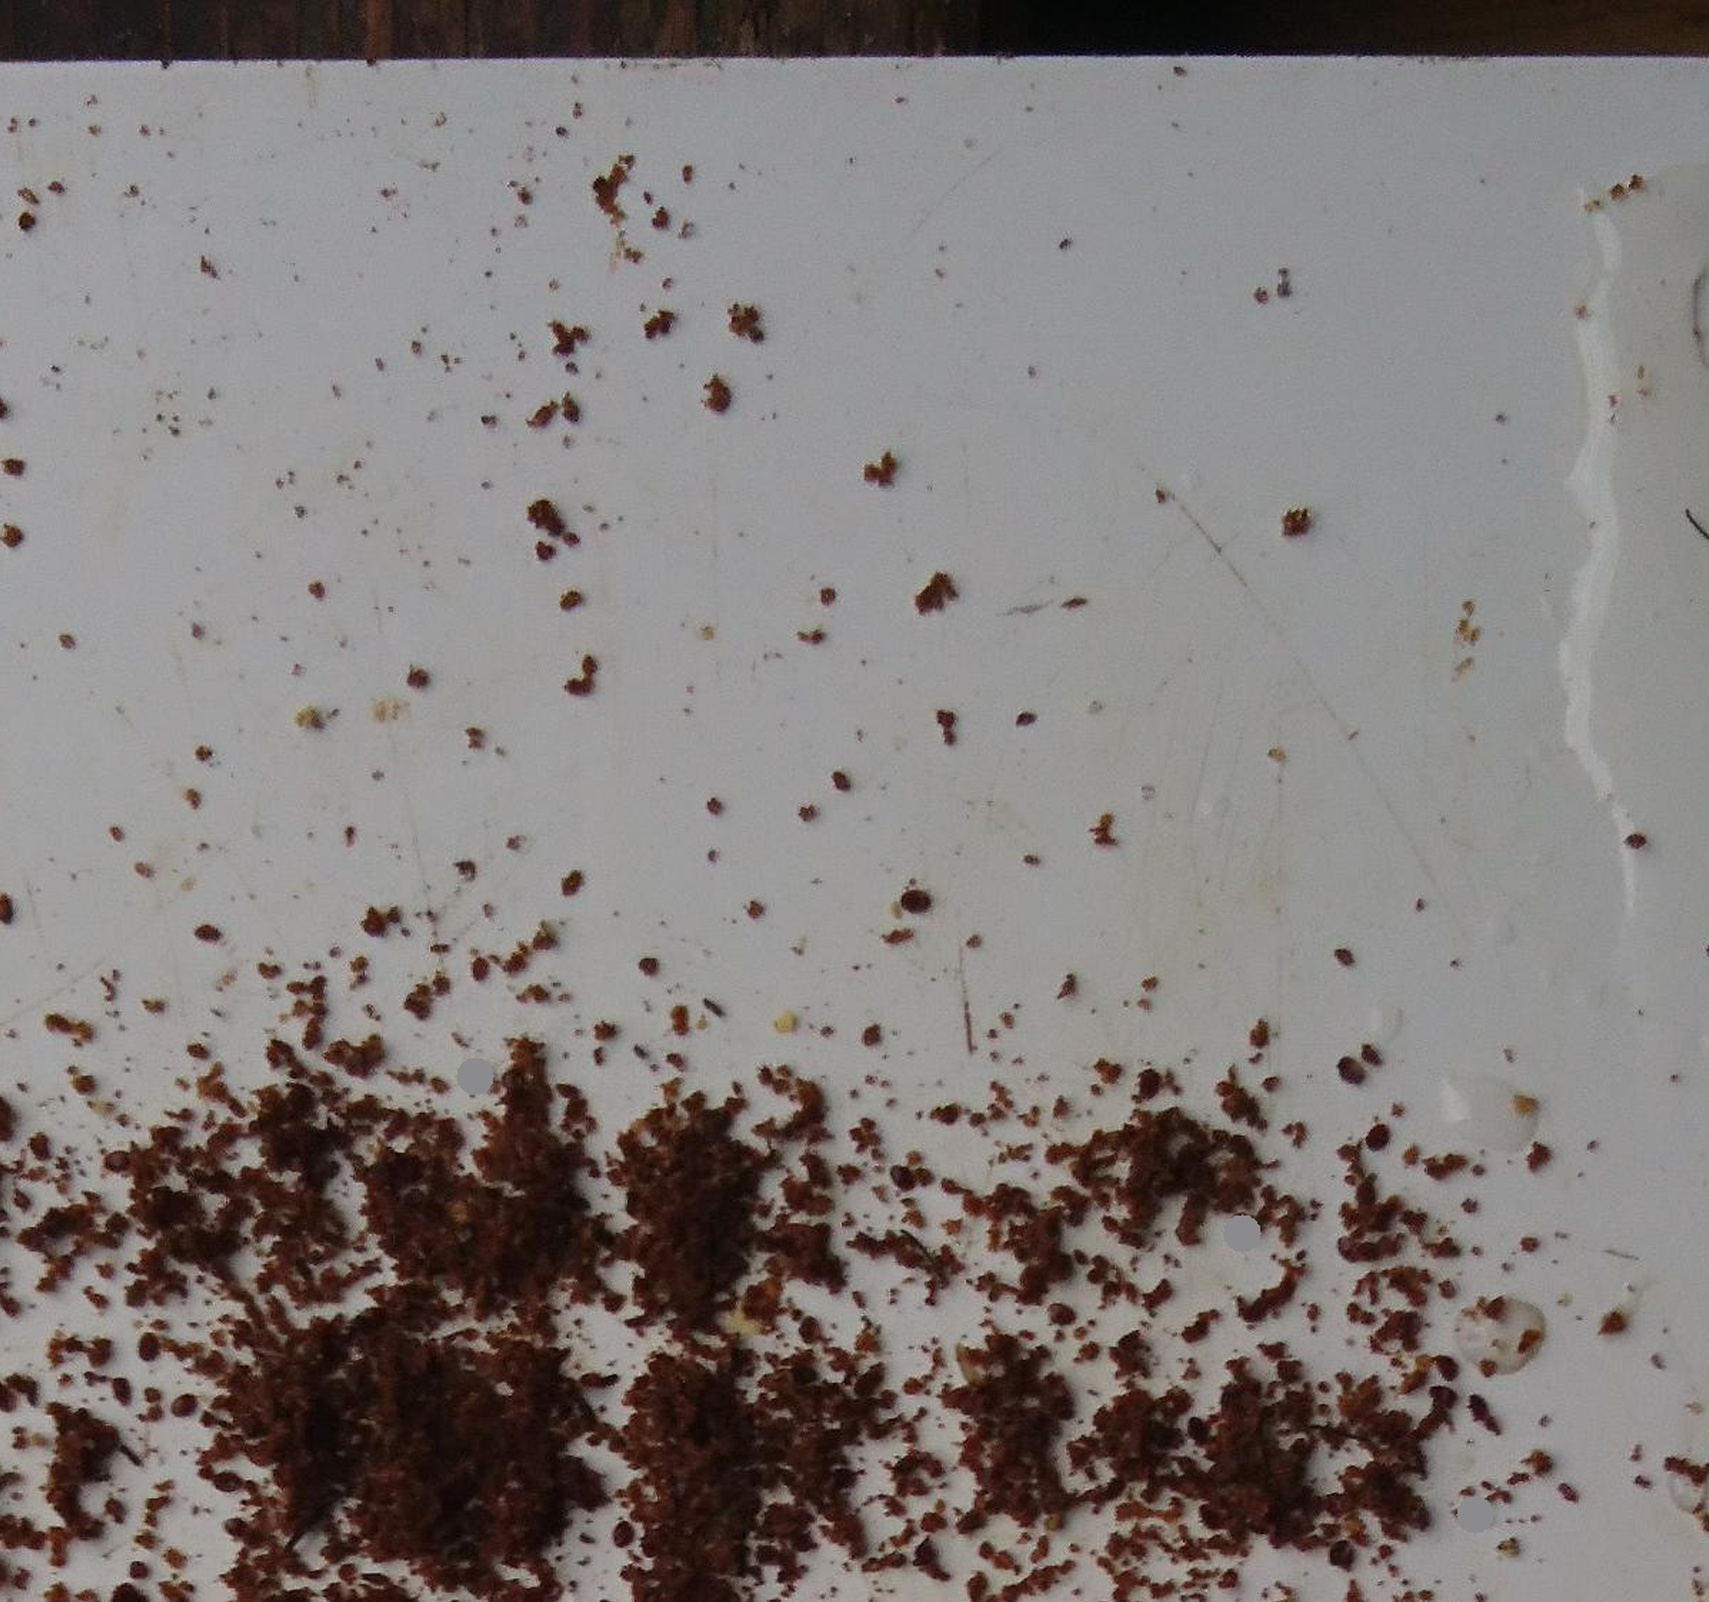Varroa: (824, 1451, 866, 1495), (1171, 1403, 1214, 1447), (848, 1363, 890, 1405), (1343, 1229, 1381, 1265), (885, 1155, 922, 1191), (1325, 1536, 1361, 1572), (1336, 1049, 1369, 1086), (212, 1460, 247, 1494), (224, 1513, 259, 1546), (196, 915, 229, 949), (794, 1314, 824, 1346), (96, 1147, 126, 1177), (1049, 1302, 1080, 1332), (136, 1328, 164, 1357), (608, 1516, 635, 1542), (1427, 1354, 1455, 1379), (902, 890, 928, 915), (1363, 1122, 1388, 1147), (178, 1393, 202, 1418)
